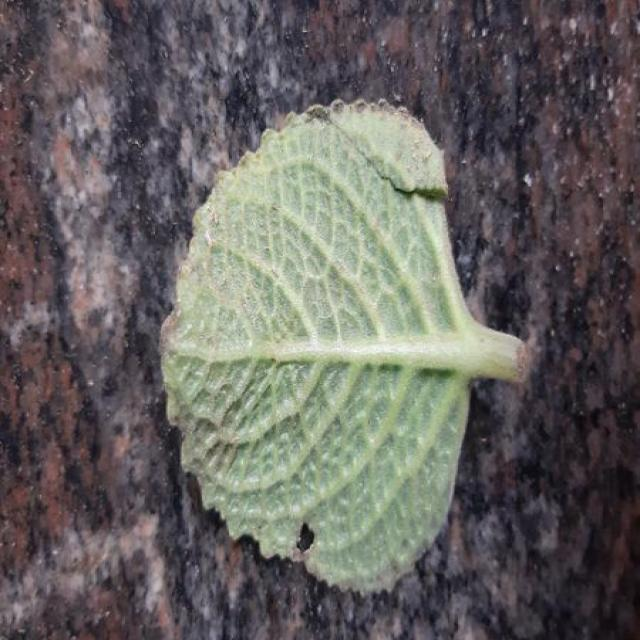doddpathre: (165, 102, 522, 590)
